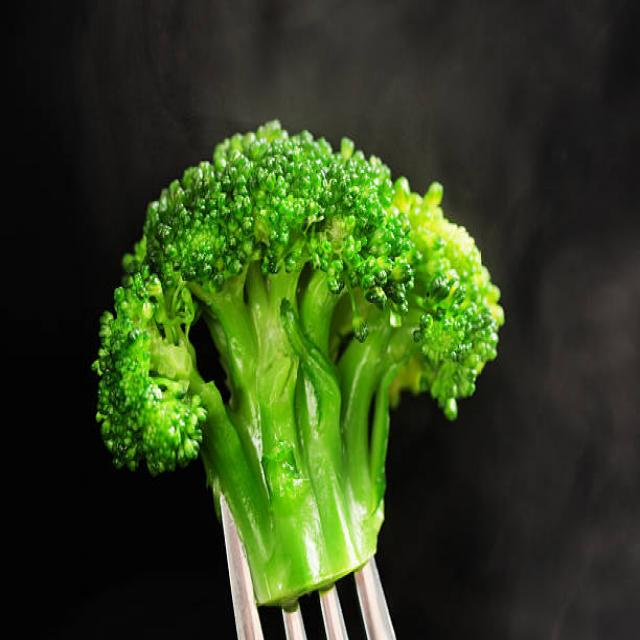broccoli: (130, 99, 517, 524)
